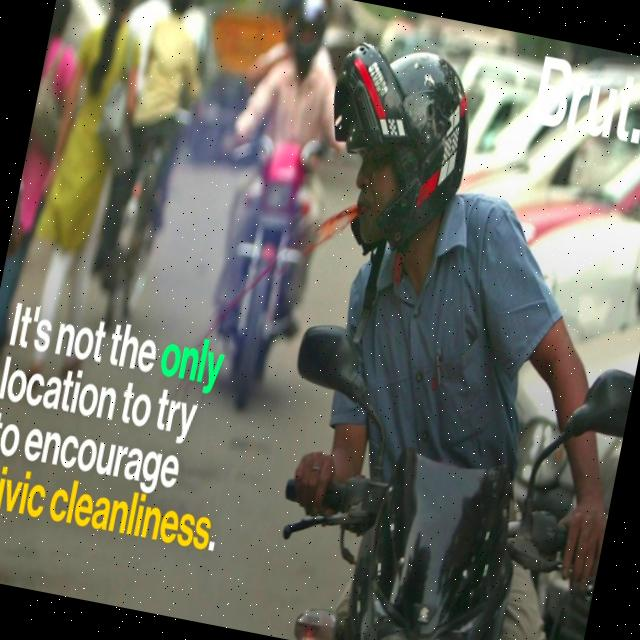spit: (175, 165, 390, 335)
